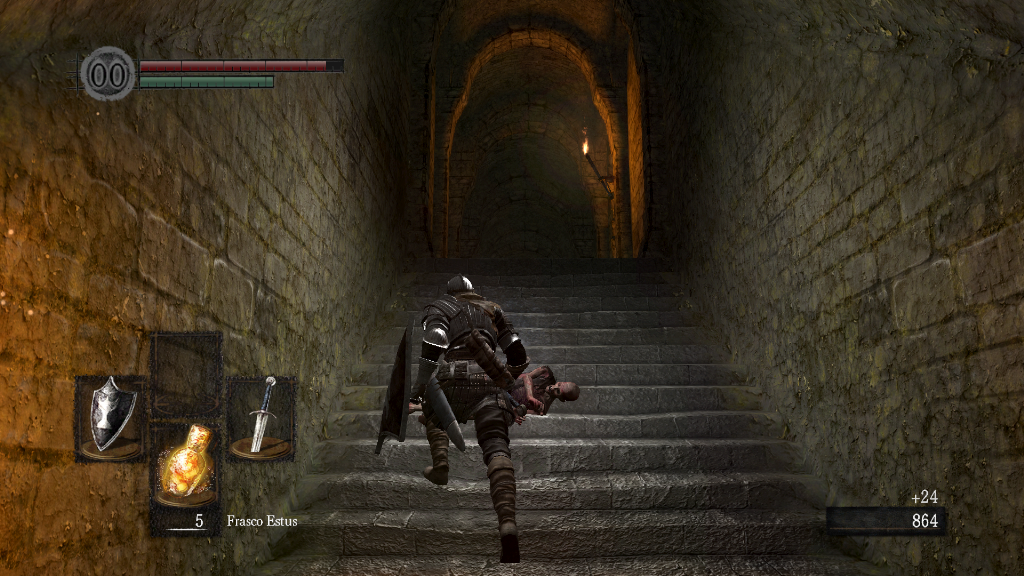health: (138, 58, 343, 71)
humanity: (80, 45, 136, 102)
player: (376, 274, 531, 564)
souls: (825, 506, 945, 536)
stamina: (138, 74, 274, 88)
